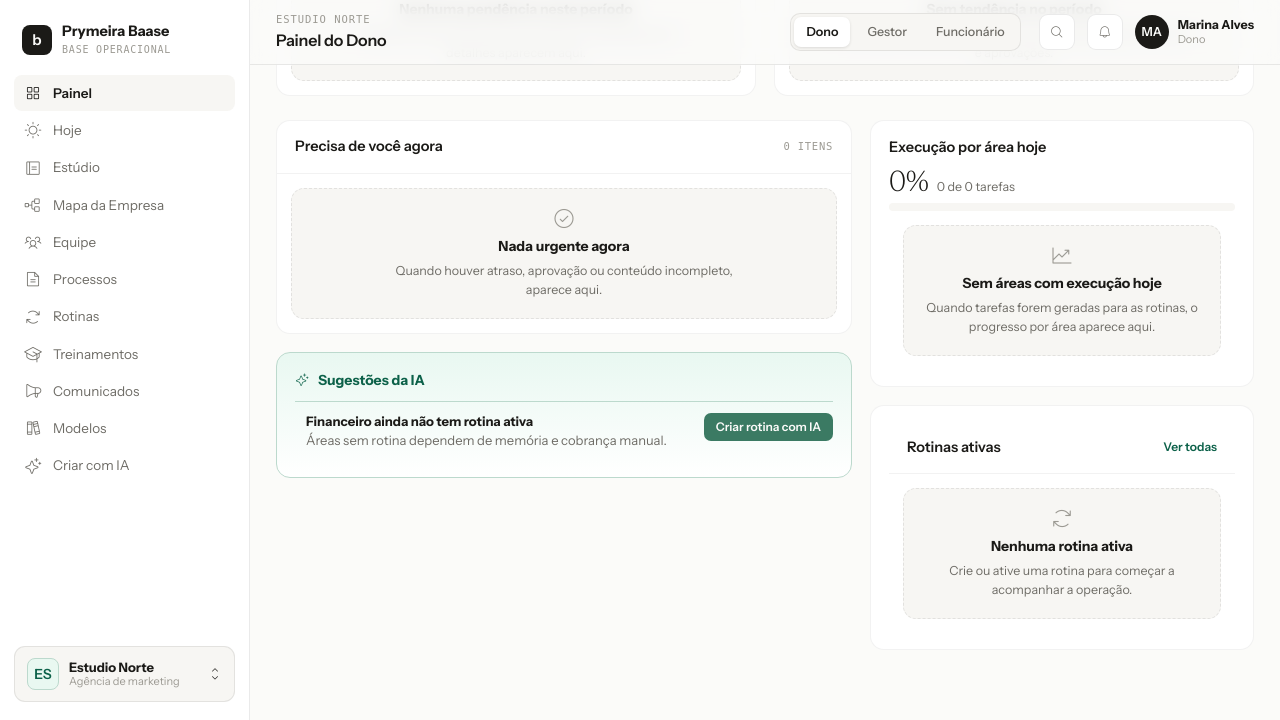
Test: Baase React app shell › renders proactive AI suggestions from the workspace API
(page scrolled)
expect the text "Financeiro ainda não tem rotina ativa" is shown: met, box [306, 413, 533, 429]
expect the text "Áreas sem rotina dependem de memória e cobrança manual." is shown: met, box [306, 432, 693, 449]
Step 1. Click the button "Criar rotina com IA" → x=768, y=427, box [704, 413, 833, 441]
(page scrolled)
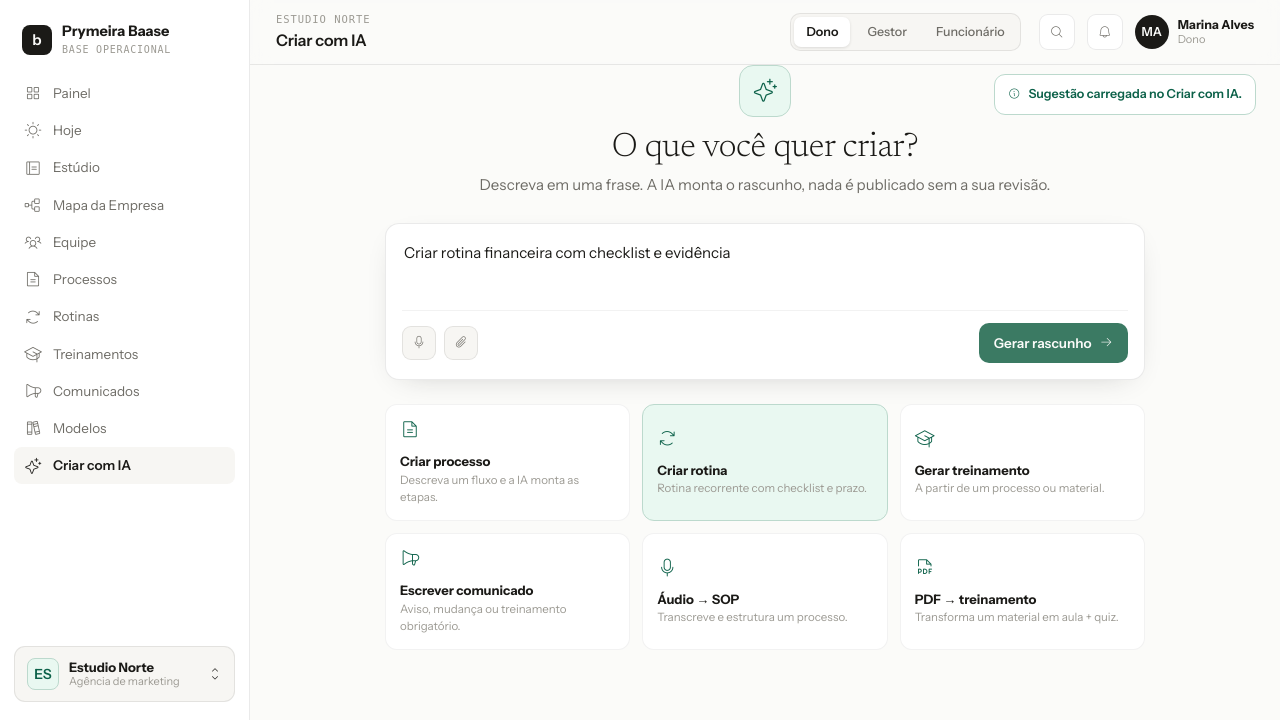
expect the heading "O que você quer criar?" is shown: met, box [612, 131, 918, 165]
expect the text box named "Pedido para a IA" holds "Criar rotina financeira com checklist e evidência": met, box [402, 240, 1128, 304]
